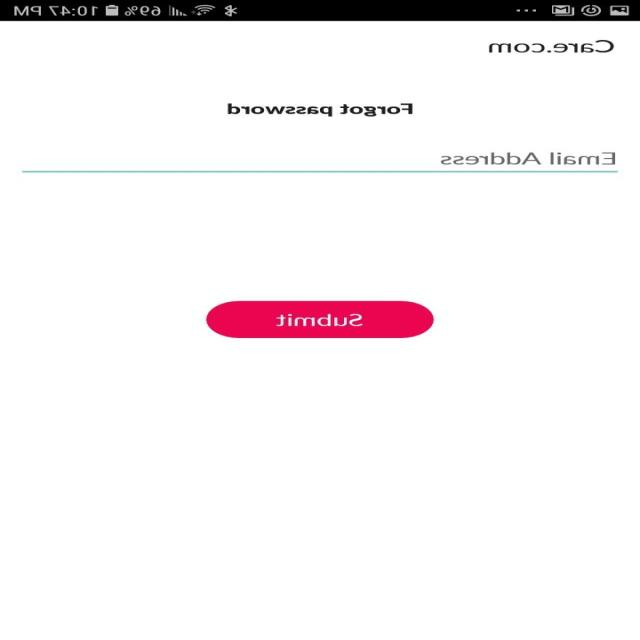EditText: (22, 152, 619, 173)
Text: (227, 103, 413, 116), (441, 152, 616, 165), (488, 39, 614, 53)
TextButton: (206, 300, 435, 338)
